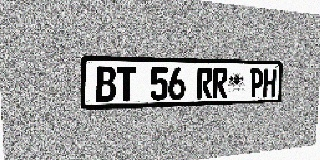5: (150, 67, 168, 101)
6: (168, 67, 186, 100)
B: (95, 66, 116, 102)
H: (263, 69, 276, 97)
P: (249, 68, 264, 97)
R: (196, 68, 213, 99), (212, 68, 228, 99)
T: (117, 66, 136, 102)
